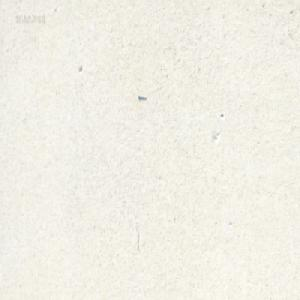Nail: (137, 93, 147, 99)
